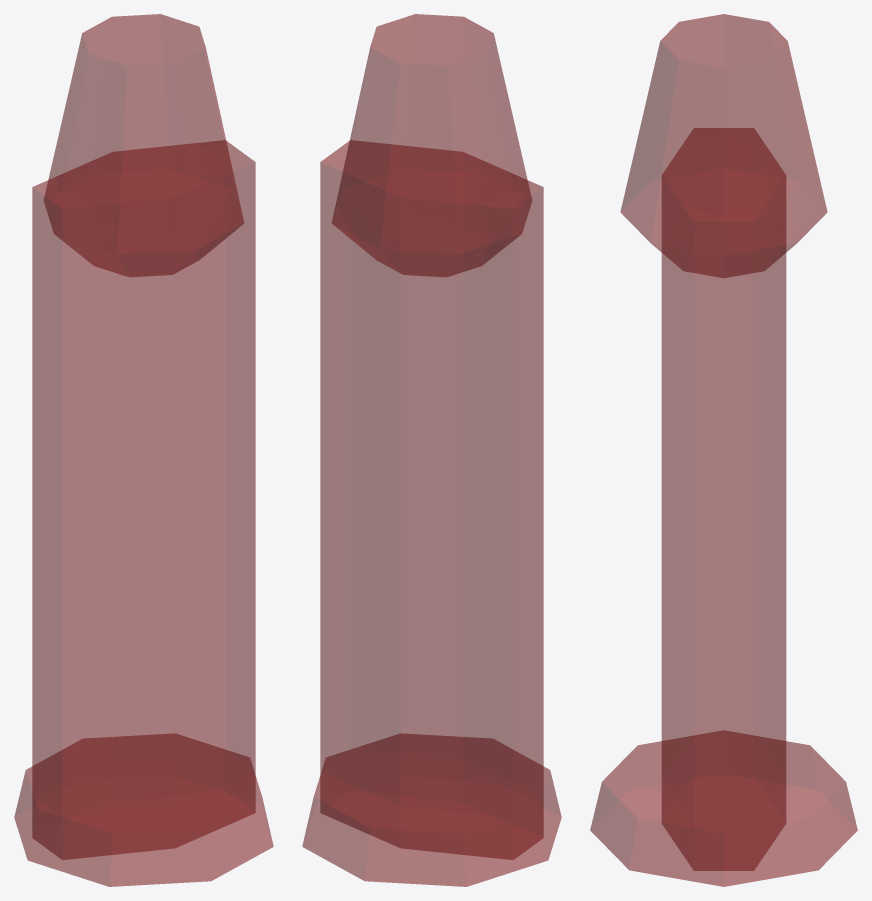
Rendered from SM_Bld_Corp_Radar_01_Arm_01_Collision.fbx.
The picture shows the model from 3 angles, left to right: view 1: azimuth 30°, elevation 25°; view 2: azimuth 150°, elevation 25°; view 3: azimuth 270°, elevation 25°; orthographic projection.
Parts seen in each view (by area): view 1: SM_Bld_Corp_Radar_01_Arm_01_Collision; view 2: SM_Bld_Corp_Radar_01_Arm_01_Collision; view 3: SM_Bld_Corp_Radar_01_Arm_01_Collision.
Part boxes in pixels (left/top/right/bottom): SM_Bld_Corp_Radar_01_Arm_01_Collision: left=14, top=14, right=273, bottom=886; SM_Bld_Corp_Radar_01_Arm_01_Collision: left=302, top=14, right=561, bottom=886; SM_Bld_Corp_Radar_01_Arm_01_Collision: left=590, top=14, right=857, bottom=886.
Bounding box in the file's own units: 294 × 955 × 294.
